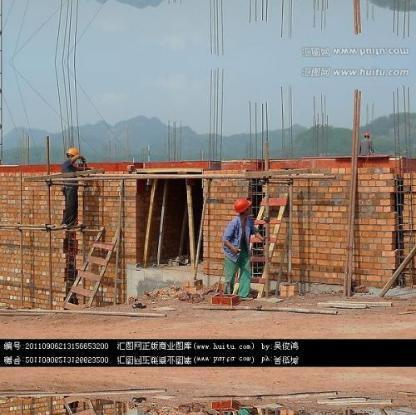helmet: (230, 197, 257, 216), (64, 143, 82, 162)
